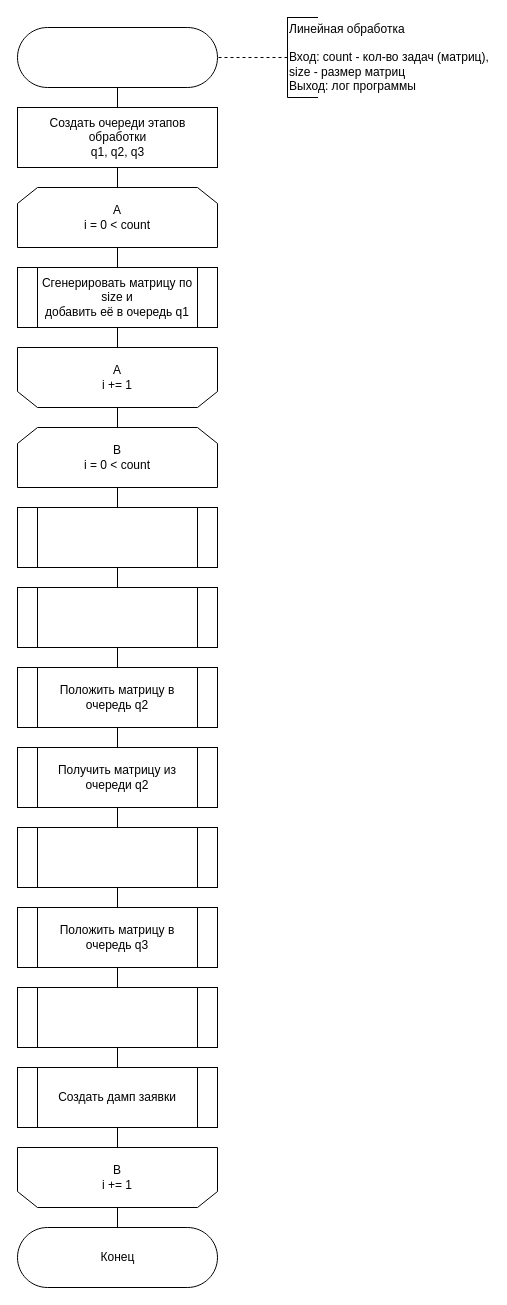
This 507x1305 diagram has some shape labels left out. The shapes that lost their labels are listed below. From the top down, each one's centre as x and y in pixels, then its label:
the point at 117,57: Начало
the point at 117,537: Получить матрицу из очереди q1
the point at 117,617: Упаковать матрицу
the point at 117,857: Вычислить определитель матрицы
the point at 117,1017: Получить матрицу из очереди q3
